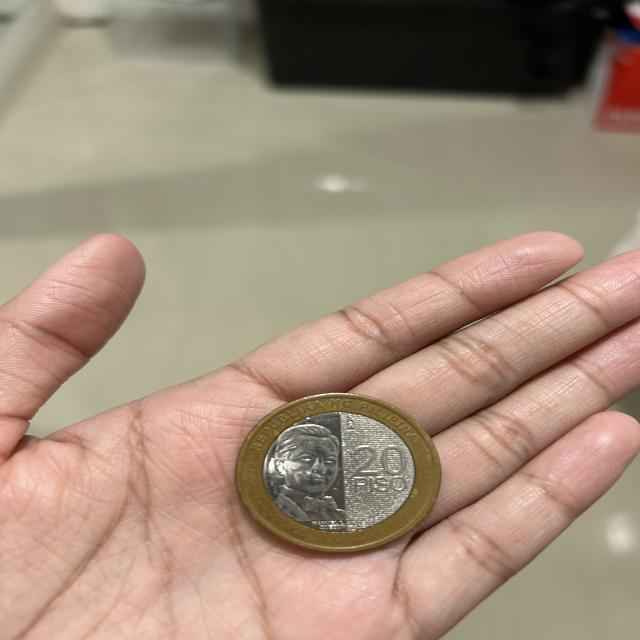20_New_Front: (346, 435, 433, 503)
